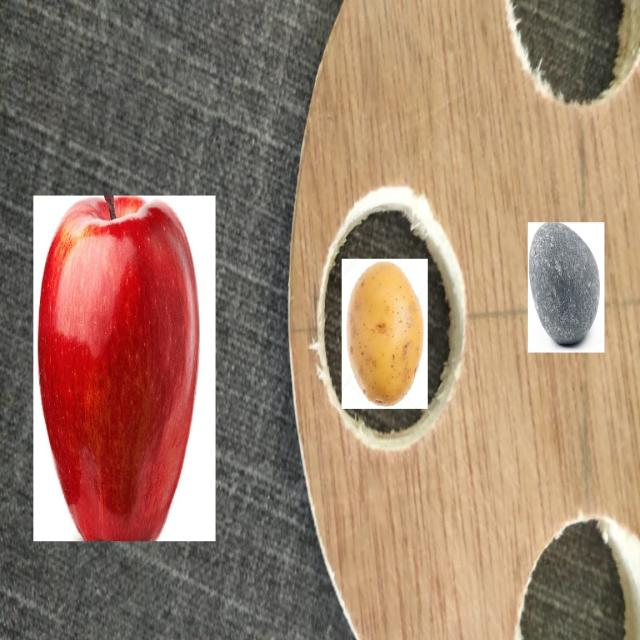potato: (349, 264, 424, 405)
